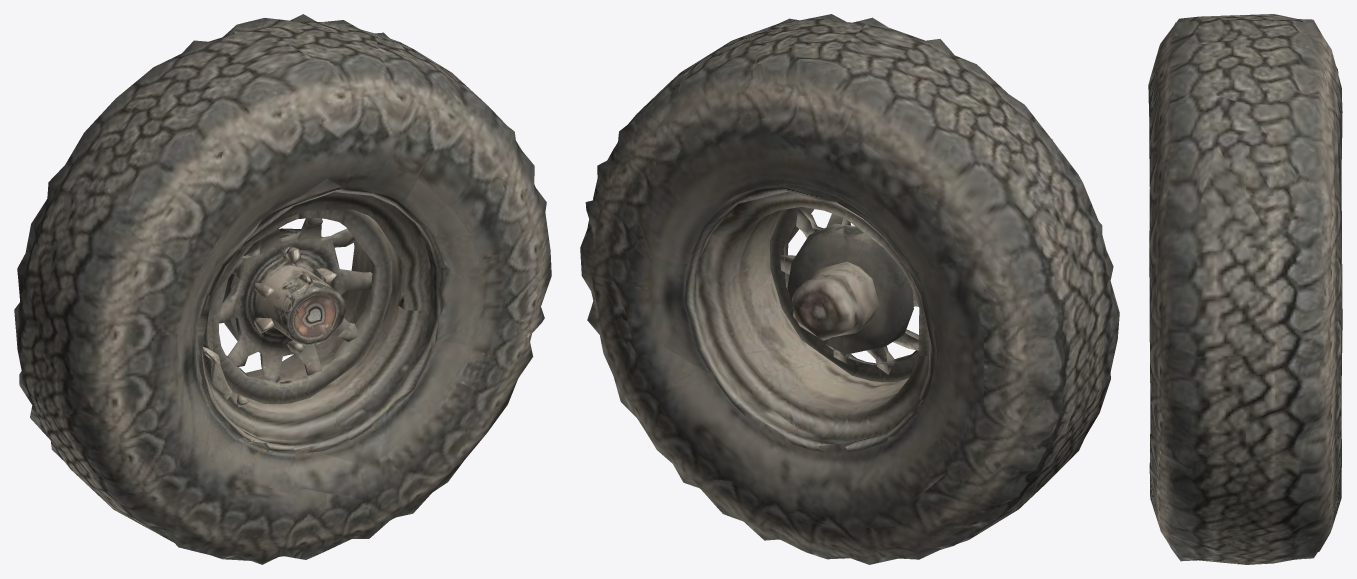
File: wheel_4x4.glb
The picture shows the model from 3 angles, left to right: view 1: azimuth 30°, elevation 25°; view 2: azimuth 150°, elevation 25°; view 3: azimuth 270°, elevation 25°; orthographic projection.
Visible parts, largest first — view 1: wheel_4x4; view 2: wheel_4x4; view 3: wheel_4x4.
Part boxes in pixels (bbox=[...]): wheel_4x4: bbox=[14, 14, 551, 564]; wheel_4x4: bbox=[580, 14, 1119, 564]; wheel_4x4: bbox=[1148, 14, 1342, 564].
Size of the model in its own units: 1 by 0.9948 by 0.3514.
1 material, 1 textured.
